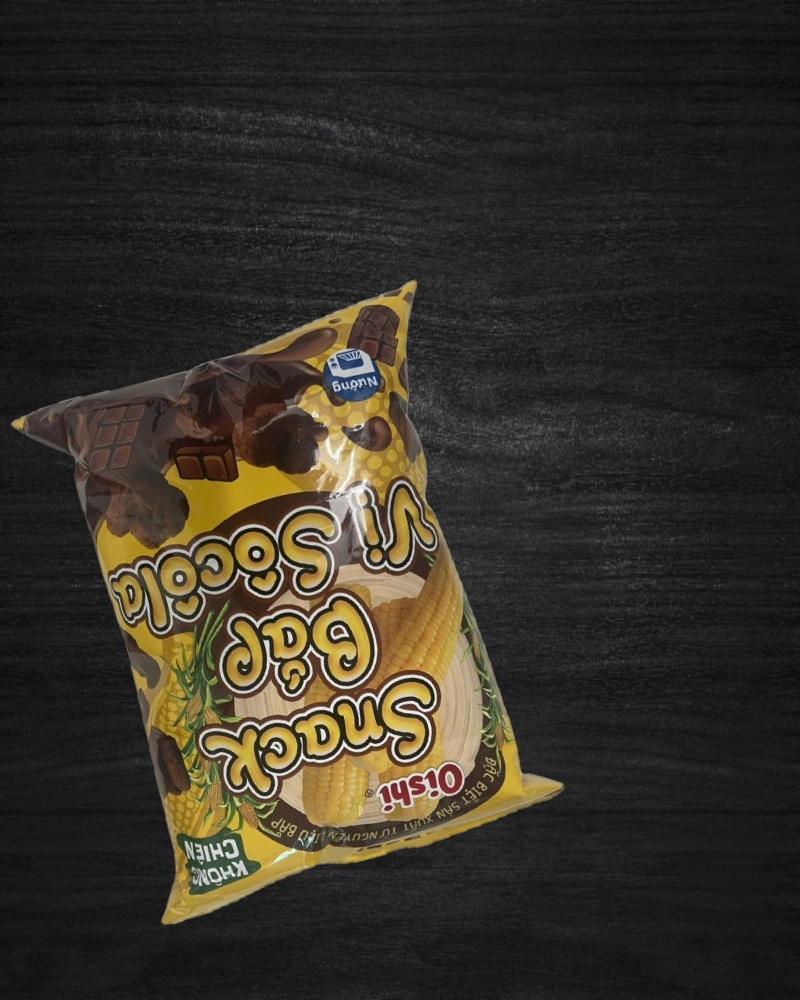Snack socola: (4, 279, 573, 930)
